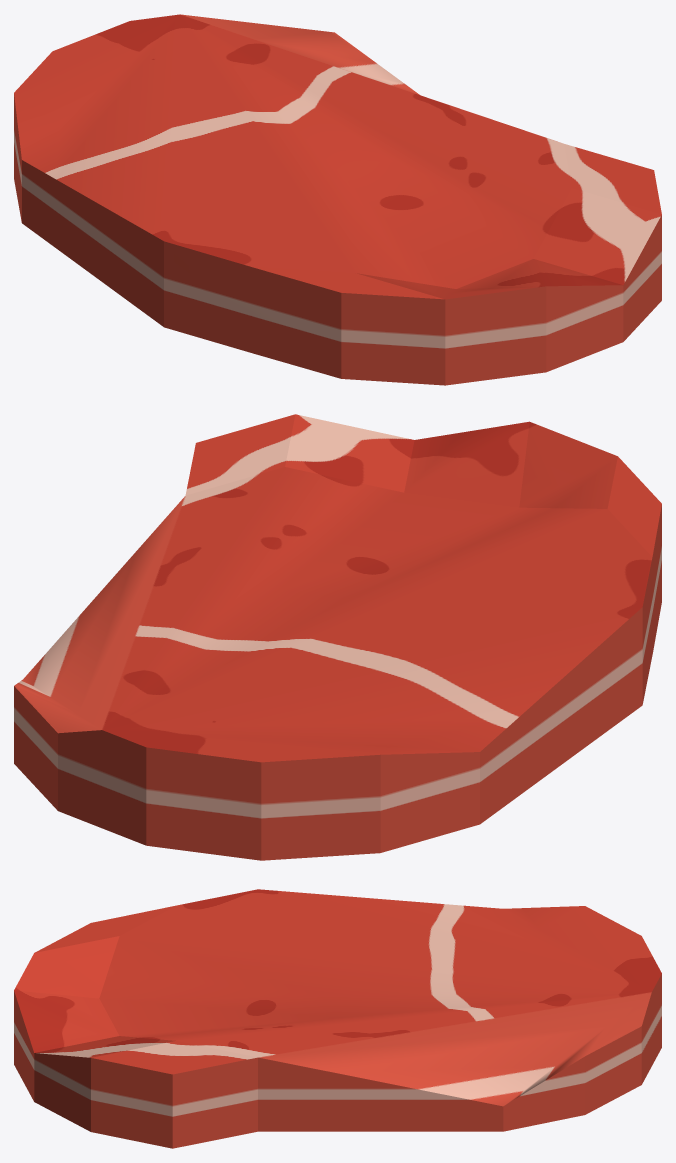
File: carne final.fbx
3 renders of one model, top to bottom at view 1: azimuth 30°, elevation 25°; view 2: azimuth 150°, elevation 25°; view 3: azimuth 270°, elevation 25°, orthographic. The views are drawn at different scales.
Visible parts, largest first — view 1: carne_2; view 2: carne_2; view 3: carne_2.
Boxes of the visible parts, x1=… form: carne_2: x1=14, y1=14, x2=661, y2=385; carne_2: x1=14, y1=414, x2=661, y2=860; carne_2: x1=14, y1=889, x2=661, y2=1148.
Size of the model in its own units: 108 by 20.09 by 159.
Materials: 1 (1 with a texture image).
